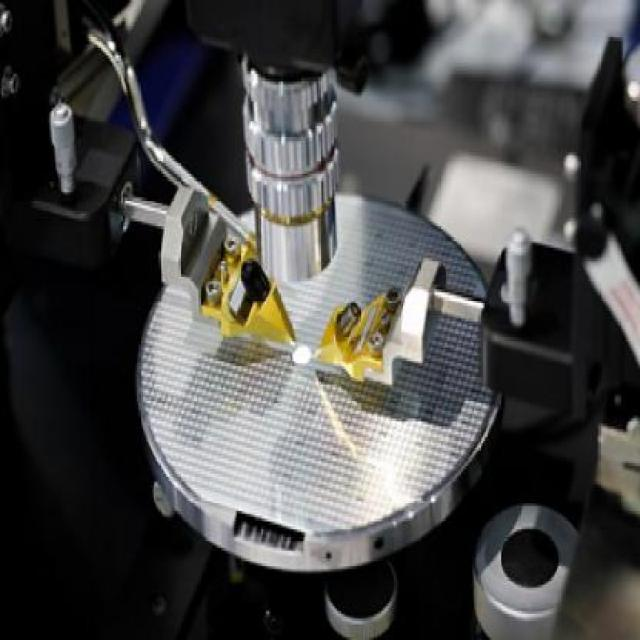Wafer: (138, 189, 501, 542)
